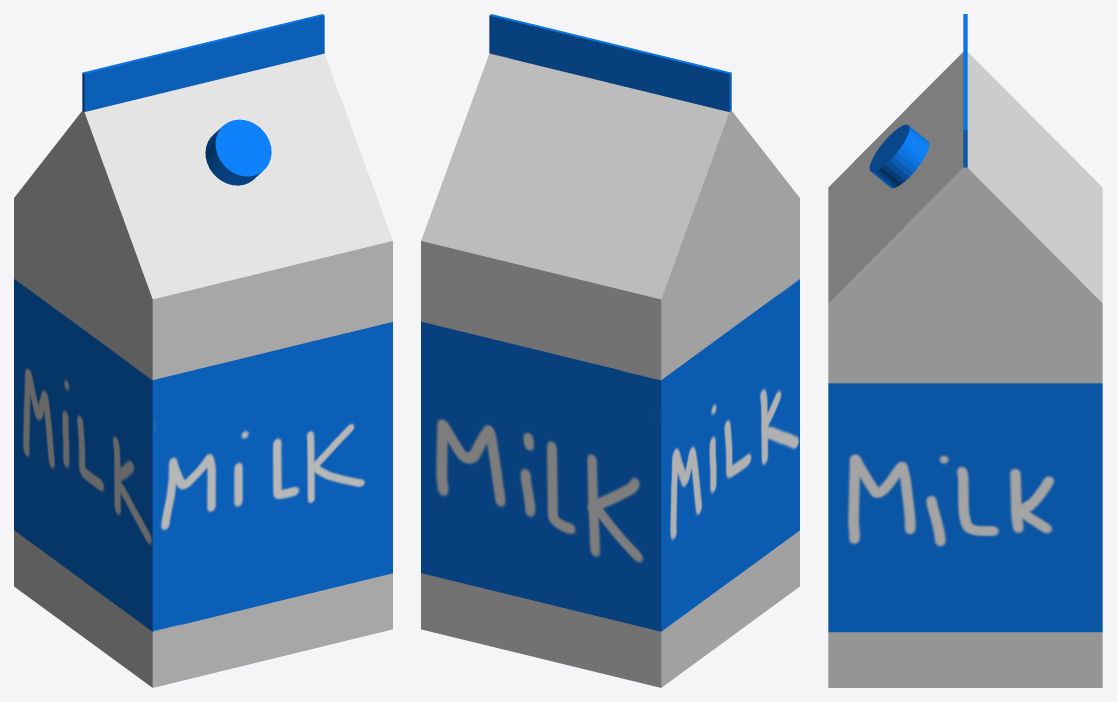
The model's file is milk.glb.
The picture shows the model from 3 angles, left to right: view 1: azimuth 30°, elevation 25°; view 2: azimuth 150°, elevation 25°; view 3: azimuth 270°, elevation 25°; orthographic projection.
Visible parts, largest first — view 1: Milk; view 2: Milk; view 3: Milk.
Part boxes in pixels (x1,y1,x2,y2): Milk: [14, 14, 392, 687]; Milk: [421, 14, 799, 687]; Milk: [828, 14, 1102, 687].
Bounding box in the file's own units: 0.5341 × 1.2 × 0.5341.
Materials: 2 (1 with a texture image).
